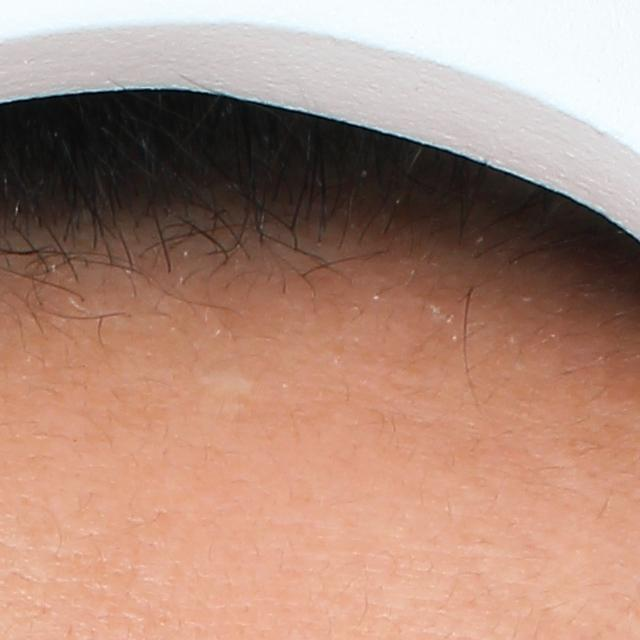other: (189, 363, 260, 400)
